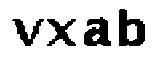a: (81, 15, 112, 52)
b: (117, 4, 149, 52)
v: (9, 13, 44, 50)
x: (45, 14, 79, 50)
